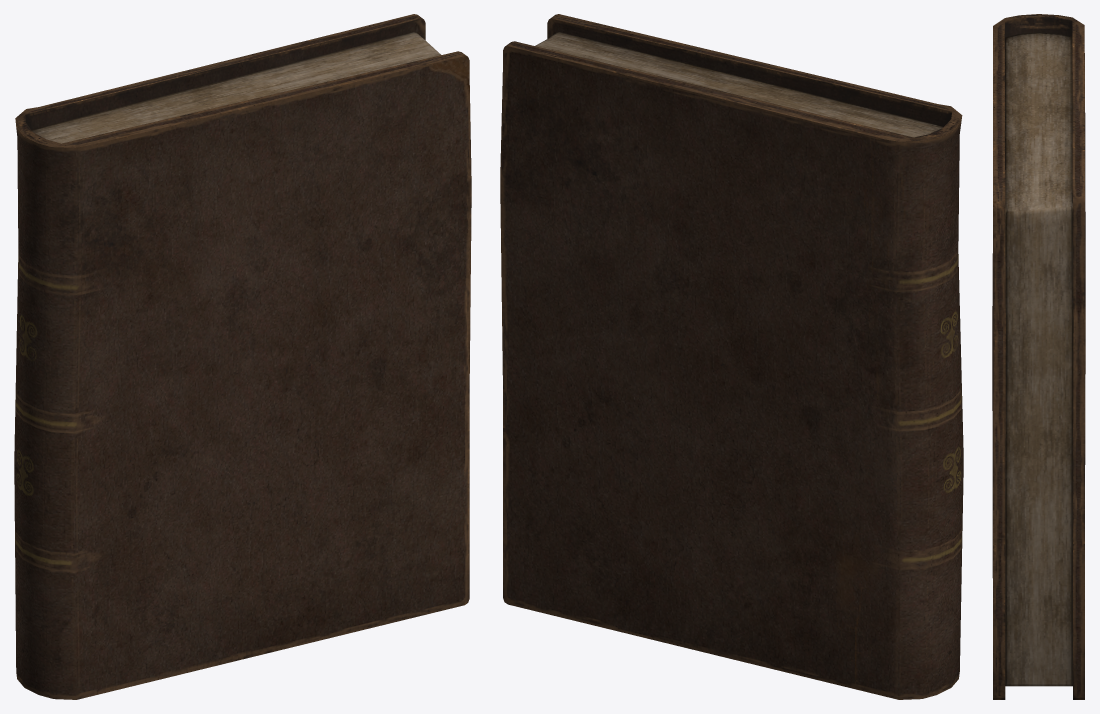
Rendered from SM_Book_1.fbx.
3 views of the same model, side by side, from view 1: azimuth 30°, elevation 25°; view 2: azimuth 150°, elevation 25°; view 3: azimuth 270°, elevation 25° (orthographic). The views are drawn at different scales.
Visible parts, largest first — view 1: SM_Book_1_LOD0; view 2: SM_Book_1_LOD0; view 3: SM_Book_1_LOD0.
Part boxes in pixels (left/top/right/bottom): SM_Book_1_LOD0: left=14, top=14, right=471, bottom=699; SM_Book_1_LOD0: left=500, top=14, right=963, bottom=699; SM_Book_1_LOD0: left=992, top=14, right=1085, bottom=699.
Size of the model in its own units: 27.45 by 5.75 by 34.22.
